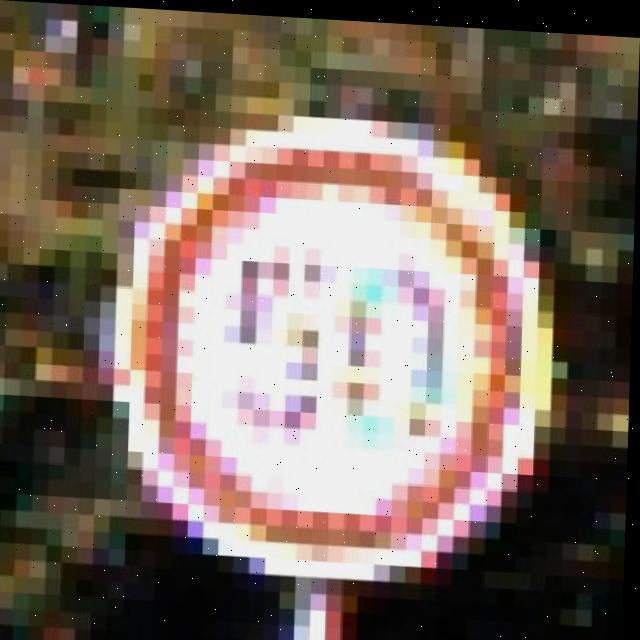Speed limit 50: (113, 110, 551, 581)
